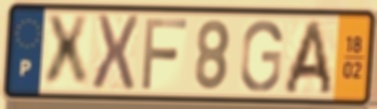8: (194, 18, 233, 93)
A: (280, 18, 336, 98)
F: (139, 16, 190, 92)
G: (238, 18, 285, 94)
X: (89, 12, 141, 94), (44, 13, 91, 91)
